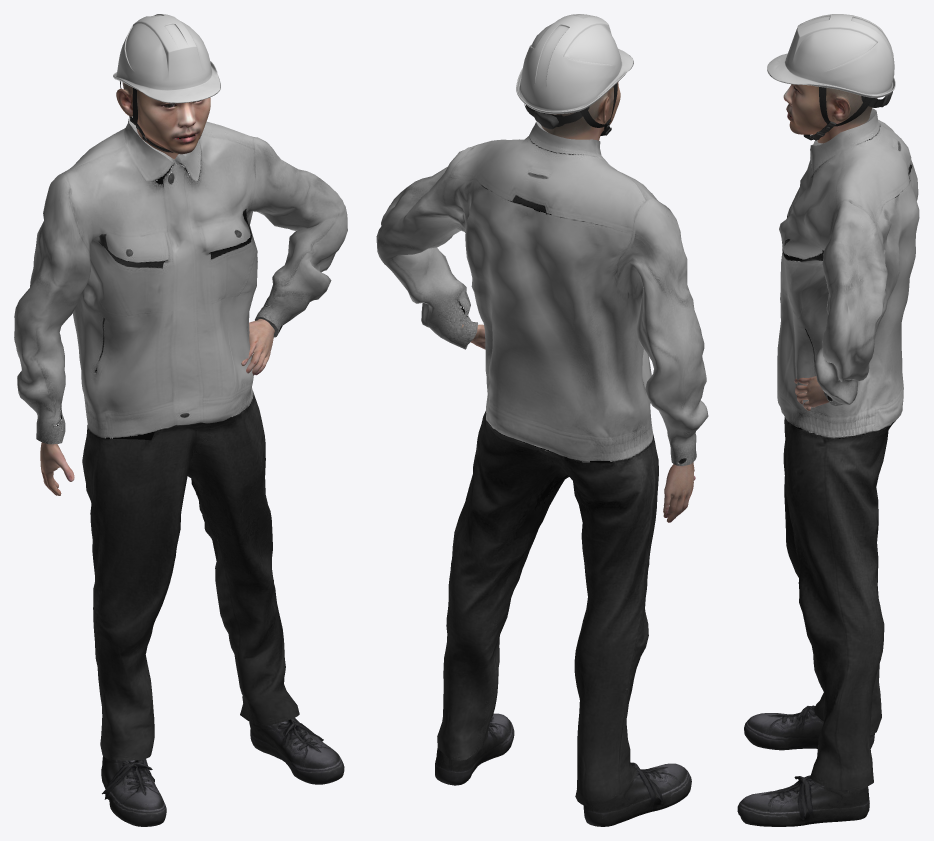
File: Worker.glb
3 renders of one model, left to right at view 1: azimuth 30°, elevation 25°; view 2: azimuth 150°, elevation 25°; view 3: azimuth 270°, elevation 25°, orthographic. The views are drawn at different scales.
Parts seen in each view (by area): view 1: Body, Helmet, Boots, Head, Hand; view 2: Body, Helmet, Boots, Hand, Head; view 3: Body, Helmet, Boots, Head, Hand.
Part boxes in pixels (<box>): Body: <box>14,116,347,760</box>; Helmet: <box>113,14,220,152</box>; Boots: <box>101,717,344,826</box>; Head: <box>116,82,210,159</box>; Hand: <box>40,308,274,495</box>; Body: <box>376,121,708,805</box>; Helmet: <box>516,14,633,135</box>; Boots: <box>435,713,691,826</box>; Hand: <box>461,324,695,522</box>; Head: <box>541,82,620,140</box>; Body: <box>777,108,919,790</box>; Helmet: <box>767,14,895,140</box>; Boots: <box>737,705,874,826</box>; Head: <box>783,84,877,143</box>; Hand: <box>794,376,828,410</box>.
Bounding box in the file's own units: 0.7975 × 1.82 × 0.4009.
Materials: 5 (5 with a texture image).
